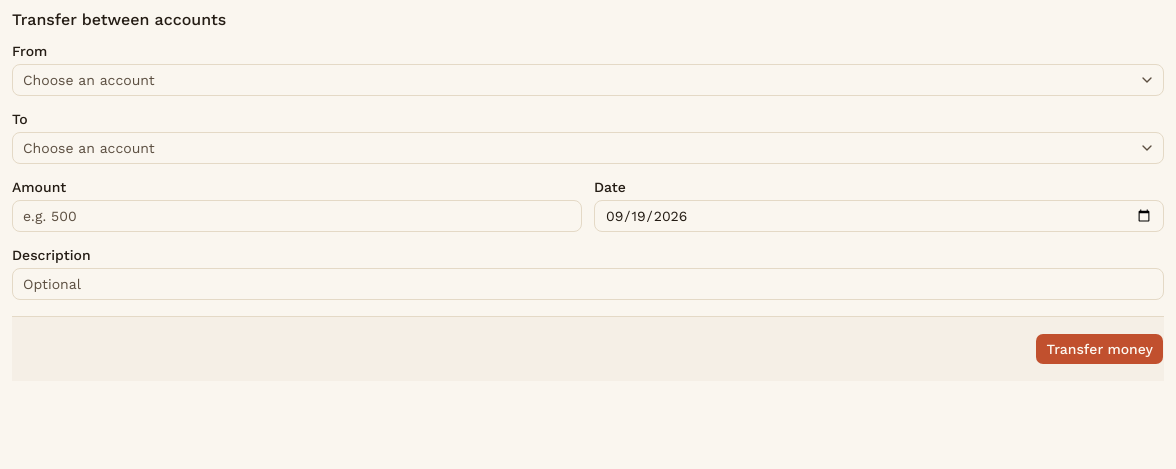
Test: <TransferForm /> — two distinct account pickers, no type selector › catches a same-currency mismatch before submitting, in plain language
This screenshot has width=1176, height=469.
Click the dropdown named "From" at {"x": 89, "y": 80}, box [12, 64, 1164, 96]
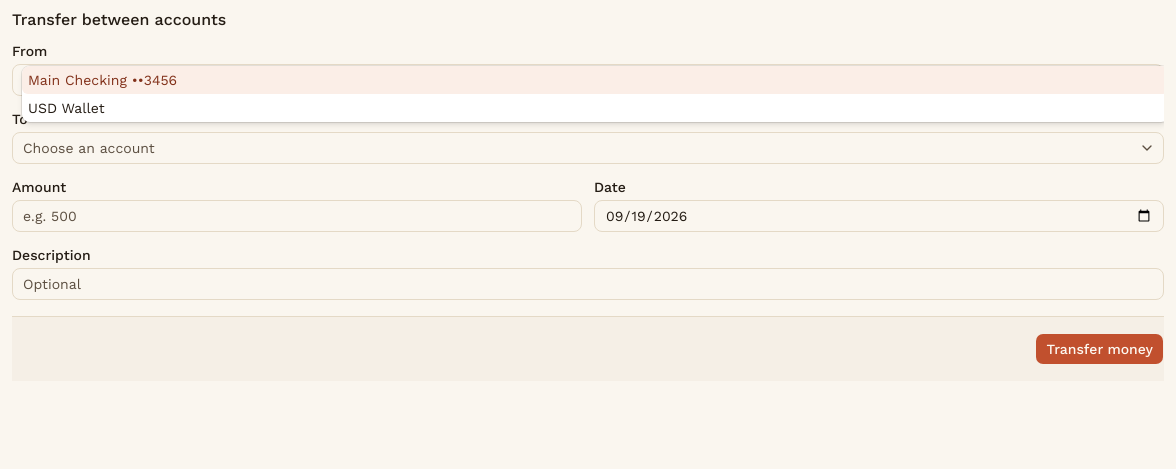
Click the option "Main Checking ••3456" at {"x": 103, "y": 80}, box [22, 66, 1164, 94]
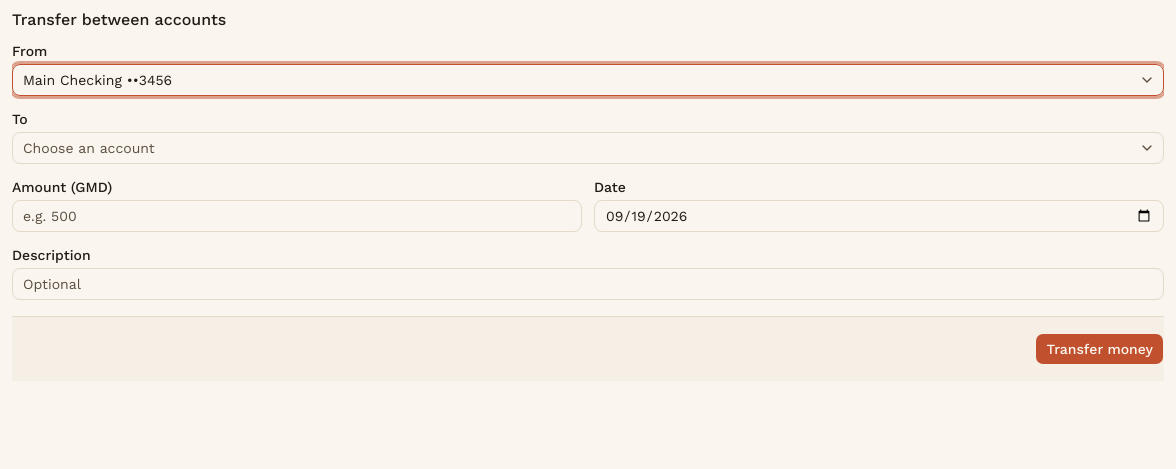
Click the dropdown named "To" at {"x": 89, "y": 148}, box [12, 132, 1164, 164]
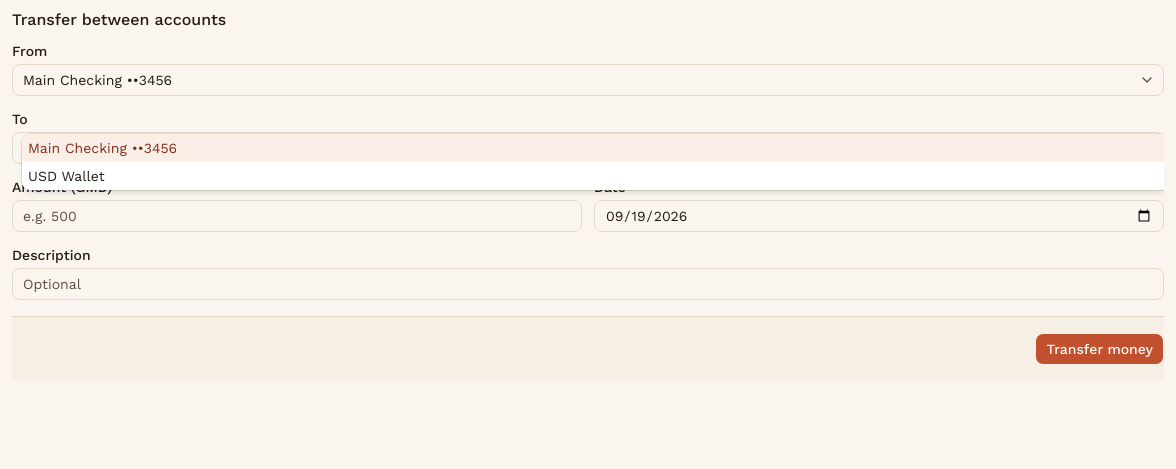
Click the option "USD Wallet" at {"x": 66, "y": 176}, box [28, 168, 104, 184]
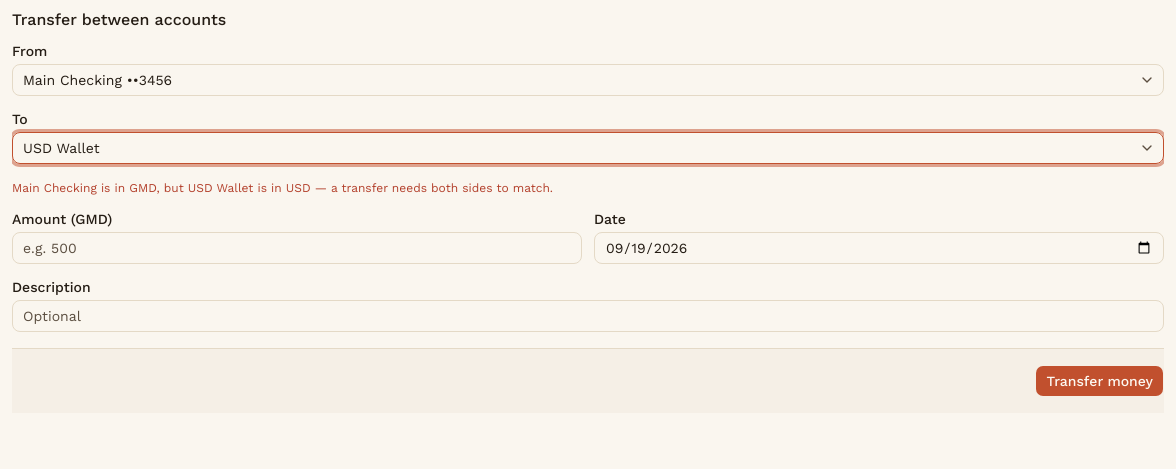
Type "100" into the field labelled "Amount (GMD)" at {"x": 297, "y": 248}, box [12, 232, 582, 264]
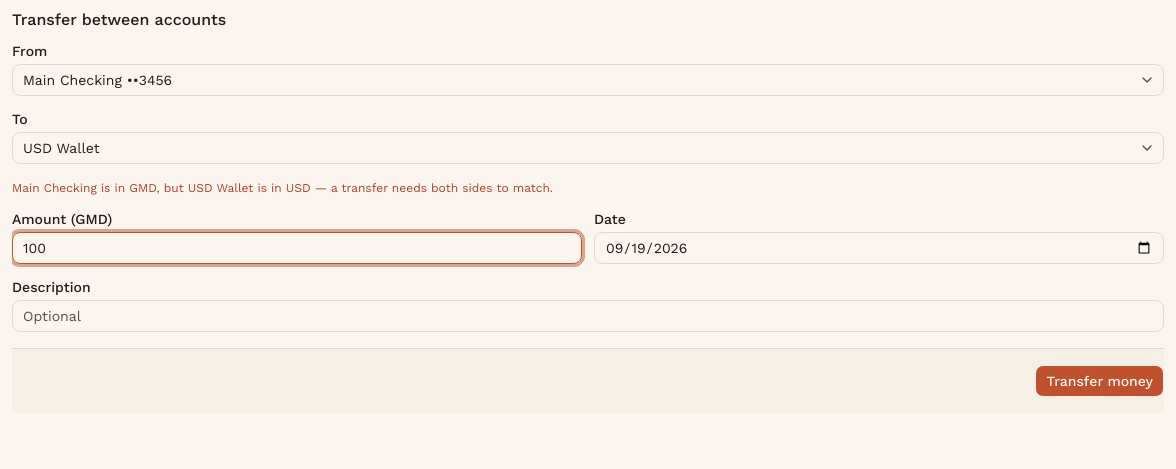
Click the button "Transfer money" at {"x": 1100, "y": 381}, box [1035, 365, 1164, 397]
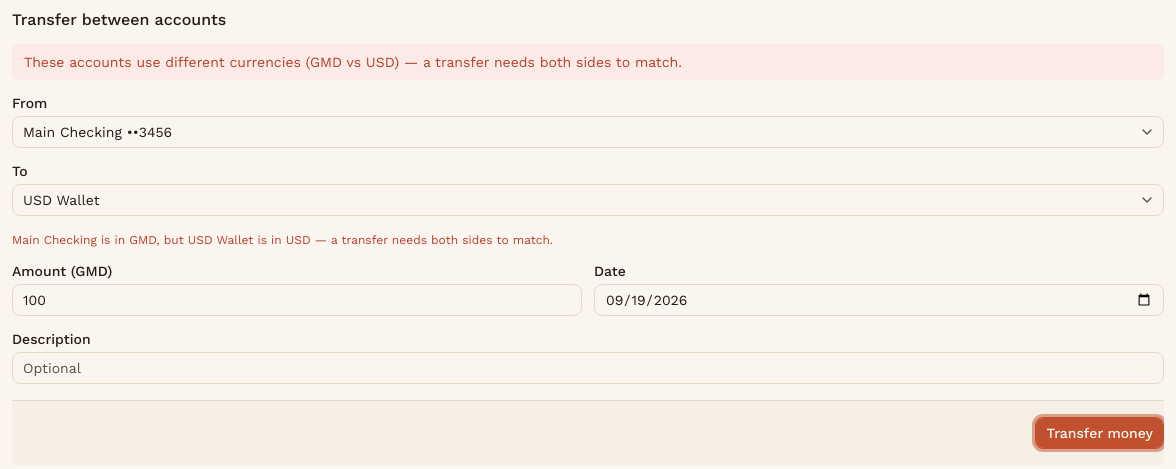
Check: the text "different currencies" is shown, box [24, 54, 682, 70]
